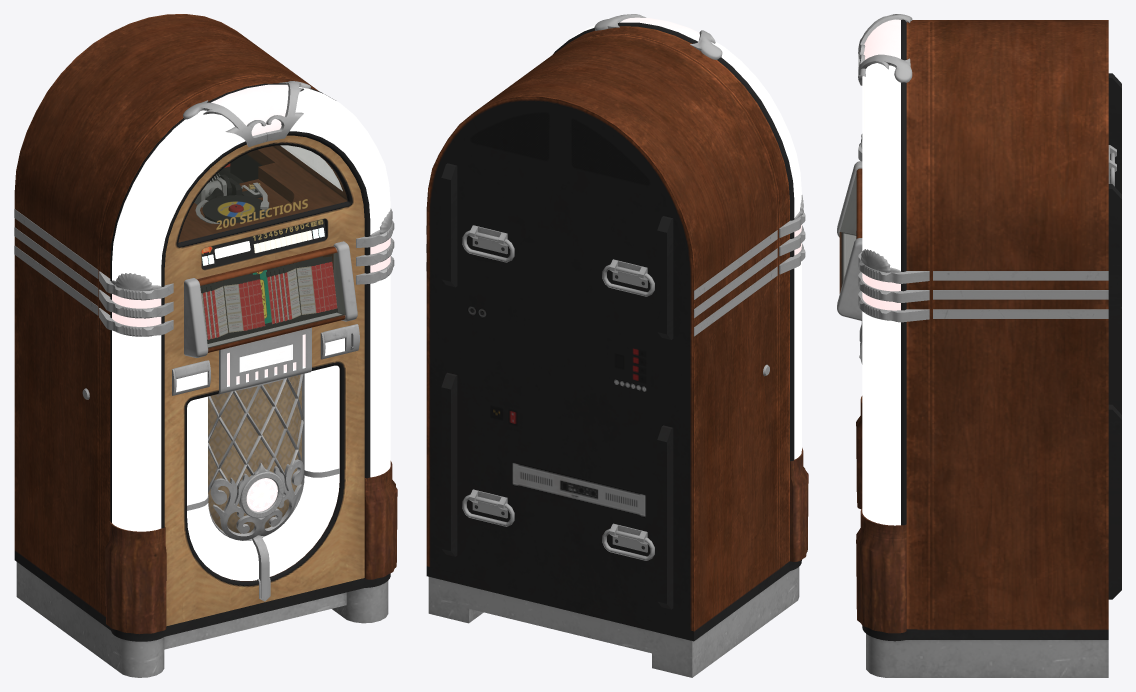
Rendered from jukebox.glb.
The picture shows the model from 3 angles, left to right: view 1: azimuth 30°, elevation 25°; view 2: azimuth 150°, elevation 25°; view 3: azimuth 270°, elevation 25°; orthographic projection. The views are drawn at different scales.
Visible parts, largest first — view 1: Vintage_Jukebox_Jukebox_Main_0, Vintage_Jukebox_Jukebox_Emission_0, Vintage_Jukebox_Jukebox_Alpha_0, Vintage_Jukebox_Jukebox_Titles_0; view 2: Vintage_Jukebox_Jukebox_Main_0, Vintage_Jukebox_Jukebox_Emission_0; view 3: Vintage_Jukebox_Jukebox_Main_0, Vintage_Jukebox_Jukebox_Emission_0, Vintage_Jukebox_Jukebox_Alpha_0.
Boxes of the visible parts, box(x1,y1,x2,y2) form: Vintage_Jukebox_Jukebox_Main_0: box(14, 14, 397, 677); Vintage_Jukebox_Jukebox_Emission_0: box(112, 84, 390, 580); Vintage_Jukebox_Jukebox_Alpha_0: box(178, 145, 347, 348); Vintage_Jukebox_Jukebox_Titles_0: box(201, 262, 337, 339); Vintage_Jukebox_Jukebox_Main_0: box(426, 14, 808, 677); Vintage_Jukebox_Jukebox_Emission_0: box(562, 17, 801, 459); Vintage_Jukebox_Jukebox_Main_0: box(837, 14, 1121, 677); Vintage_Jukebox_Jukebox_Emission_0: box(862, 19, 900, 525); Vintage_Jukebox_Jukebox_Alpha_0: box(840, 174, 856, 291).
Size of the model in its own units: 0.8611 by 1.59 by 0.7123.
Materials: 4 (4 with a texture image).
